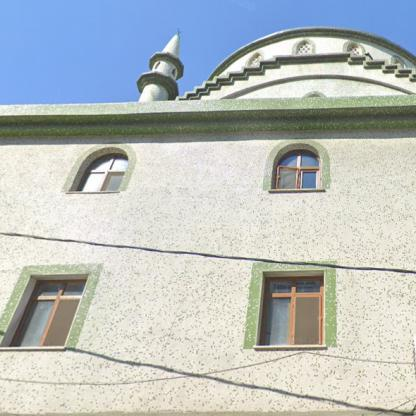window: (9, 281, 85, 346), (261, 278, 322, 344), (78, 156, 128, 191), (275, 150, 320, 188)
